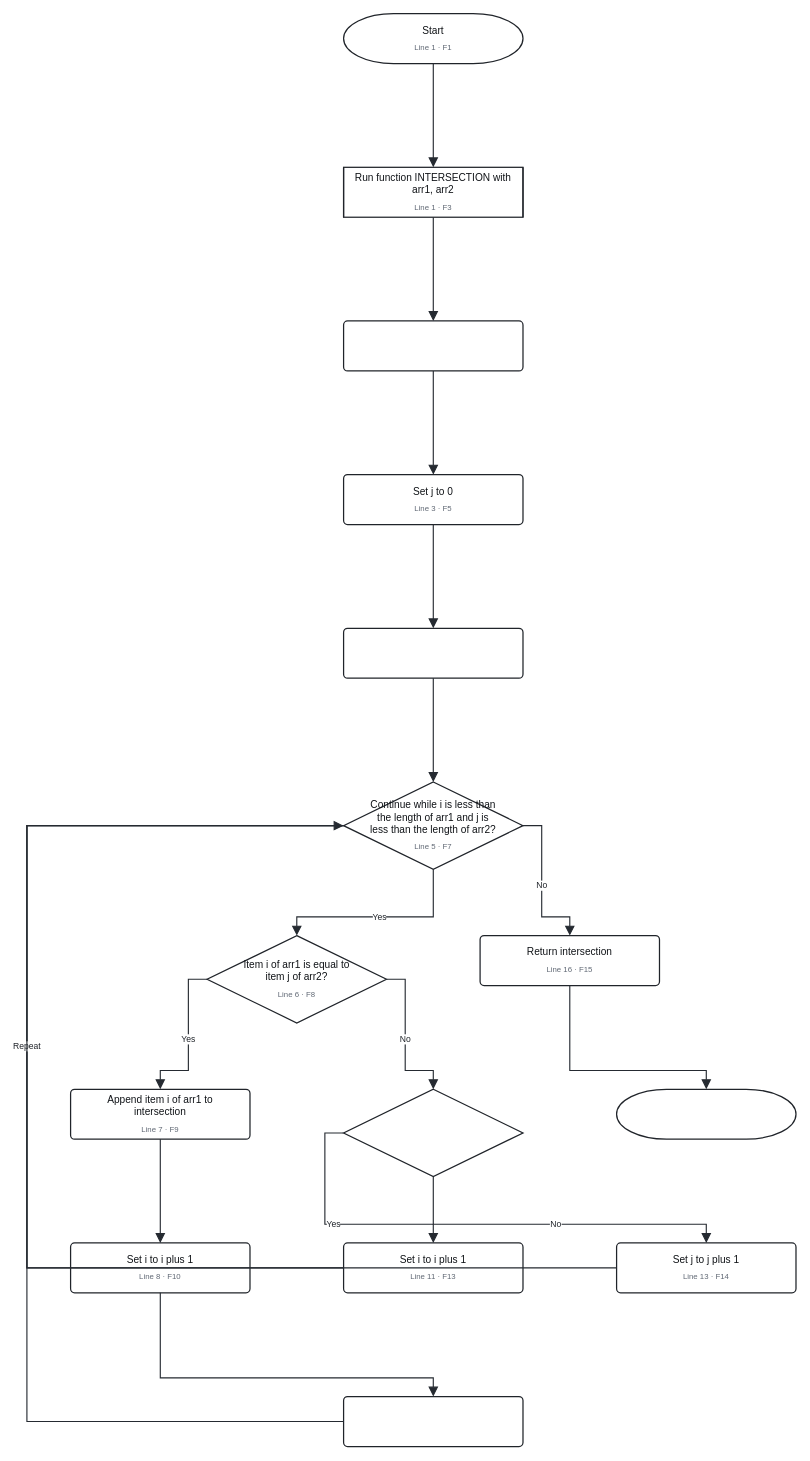
The diagram is 810 pixels wide and 1461 high, and some of its shapes have lost their labels. The shapes that lost their labels are listed below. From the top down, each one's centre as x and y in pixels, then its label:
pixel 433 345: Set i to 0 Line 2 · F4
pixel 433 652: Set intersection to an empty list Line 4 · F6
pixel 433 1132: Item i of arr1 is less than item j of arr2? Line 10 · F12
pixel 706 1113: End Line 1 · F2
pixel 433 1421: Set j to j plus 1 Line 9 · F11
